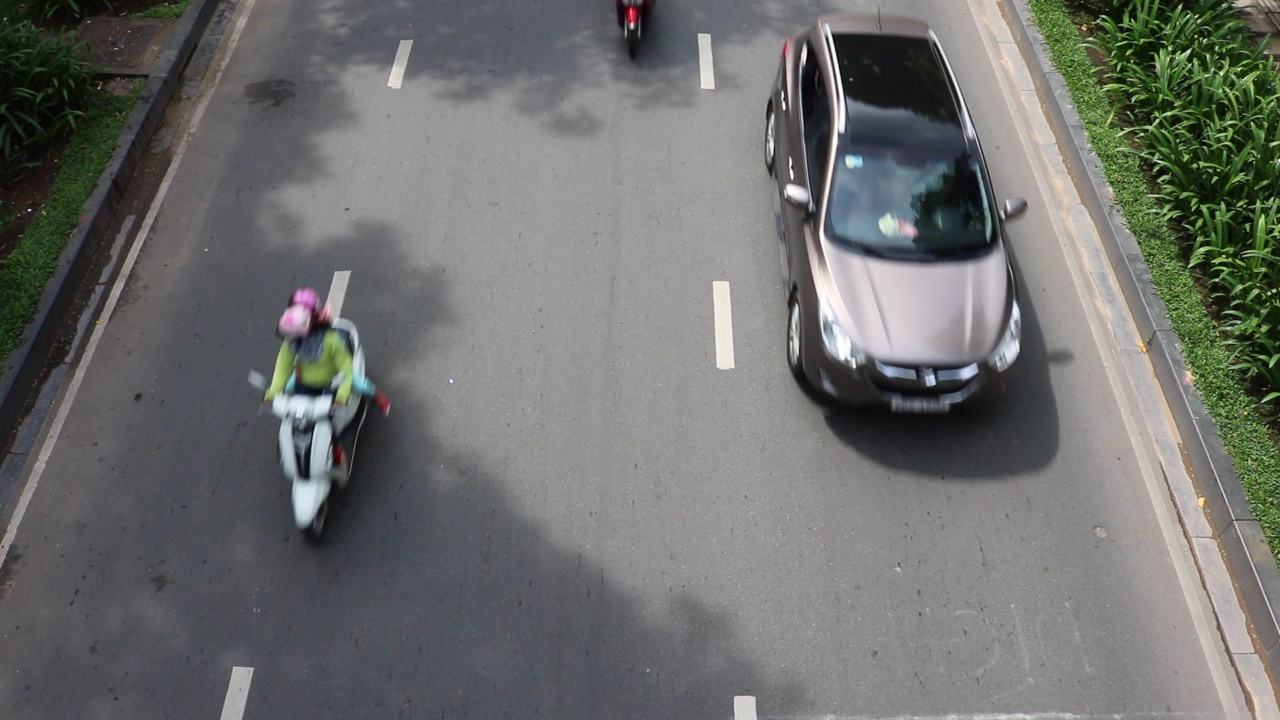car: (761, 12, 1028, 418)
motorcycle: (265, 371, 353, 541)
